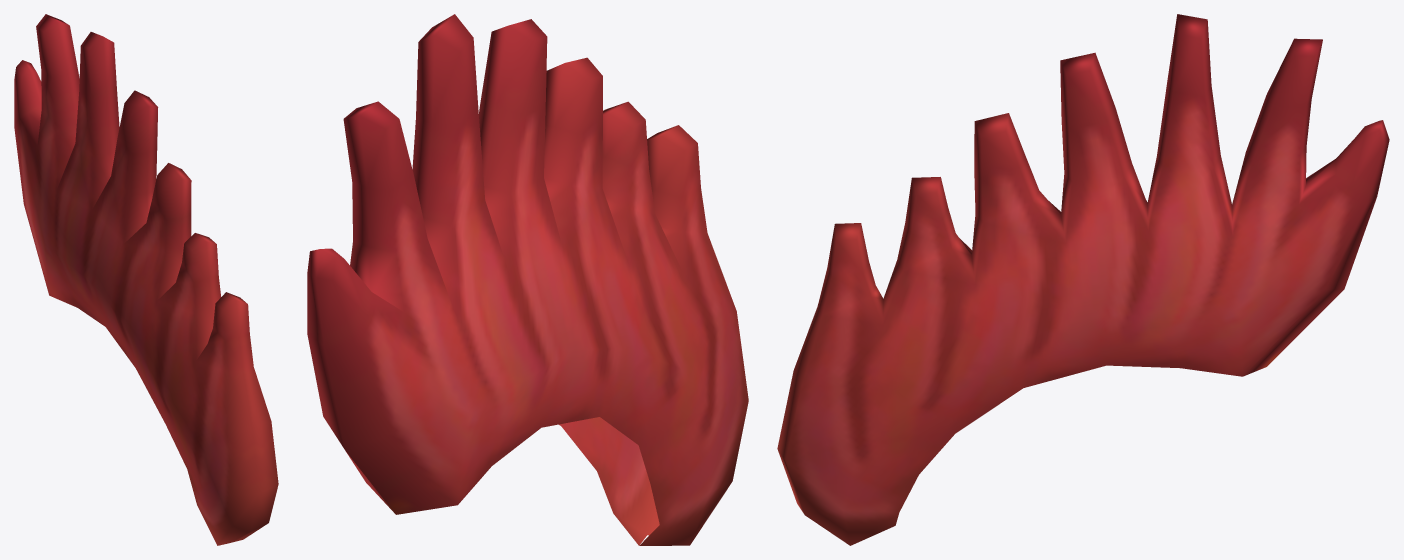
The model's file is Comb.glb.
3 renders of one model, left to right at view 1: azimuth 30°, elevation 25°; view 2: azimuth 150°, elevation 25°; view 3: azimuth 270°, elevation 25°, orthographic. The views are drawn at different scales.
Parts seen in each view (by area): view 1: A_001.003; view 2: A_001.003; view 3: A_001.003.
Boxes of the visible parts, bbox=[...] form: A_001.003: bbox=[14, 14, 278, 545]; A_001.003: bbox=[307, 14, 748, 545]; A_001.003: bbox=[777, 14, 1389, 545].
Size of the model in its own units: 0.0257 by 0.1356 by 0.1435.
1 material, 1 textured.
